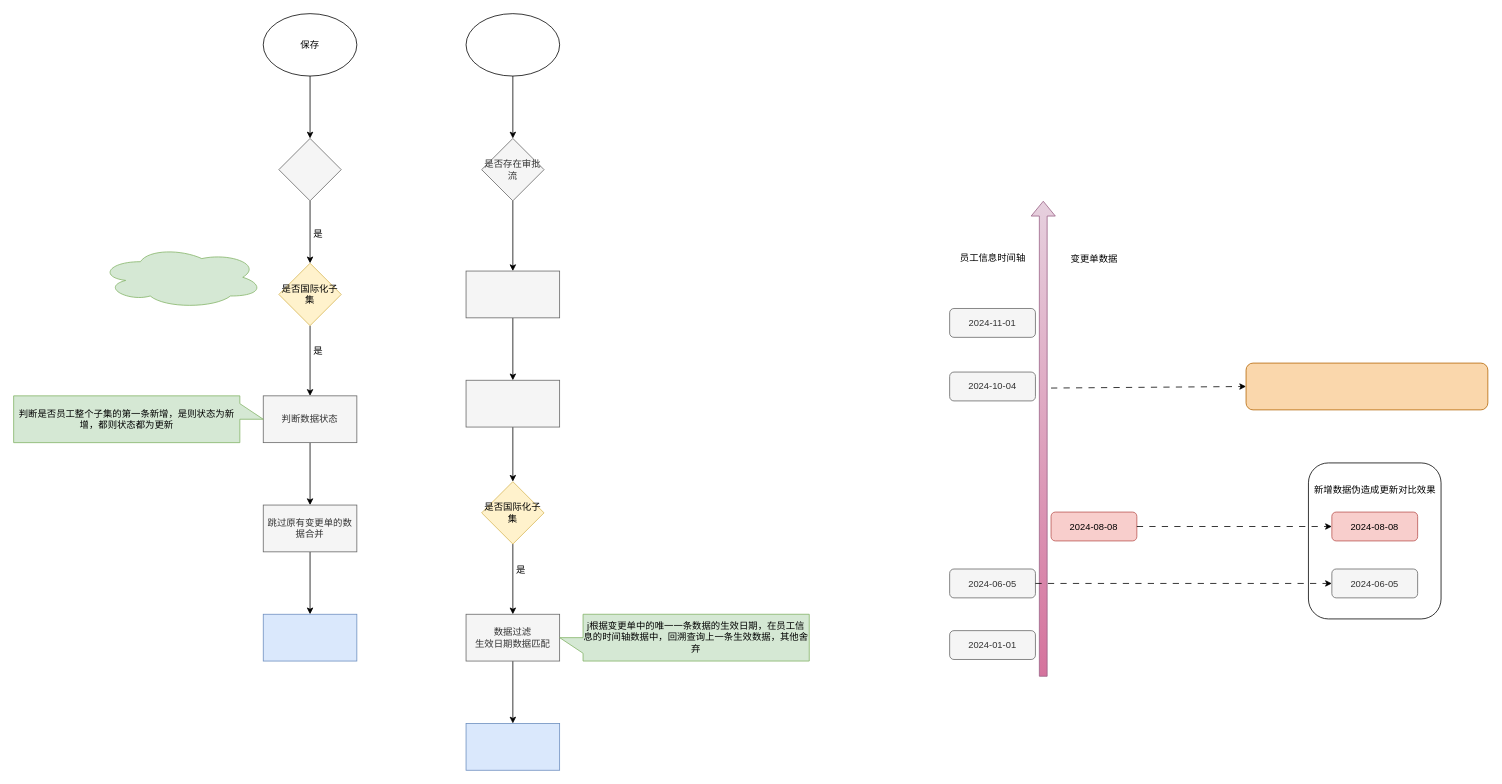
This 1502x784 diagram has some shape labels left out. The centre of each missing label's shape, as x and y in pixels:
写死这几个子集的配置，遇到之后单独走国际化的变更保存逻辑: [181,276]
变更单入库当前生效日期的唯一一条数据: [309,637]
多线程同时查询员工和变更单数据: [512,403]
强制匹配id 返回更新状态的数据结构: [512,746]
当时间走过下一个生效日期数据时 1、个人信息页面仍然展示变更对比数据 2、同时返回一个特殊标识，在前端增加提示说明审批中数据就算通过也已经废弃了: [1366,386]
是否开启审批流: [309,169]
查询: [512,44]
根据查询子集构建查询懒加载入参: [512,294]
